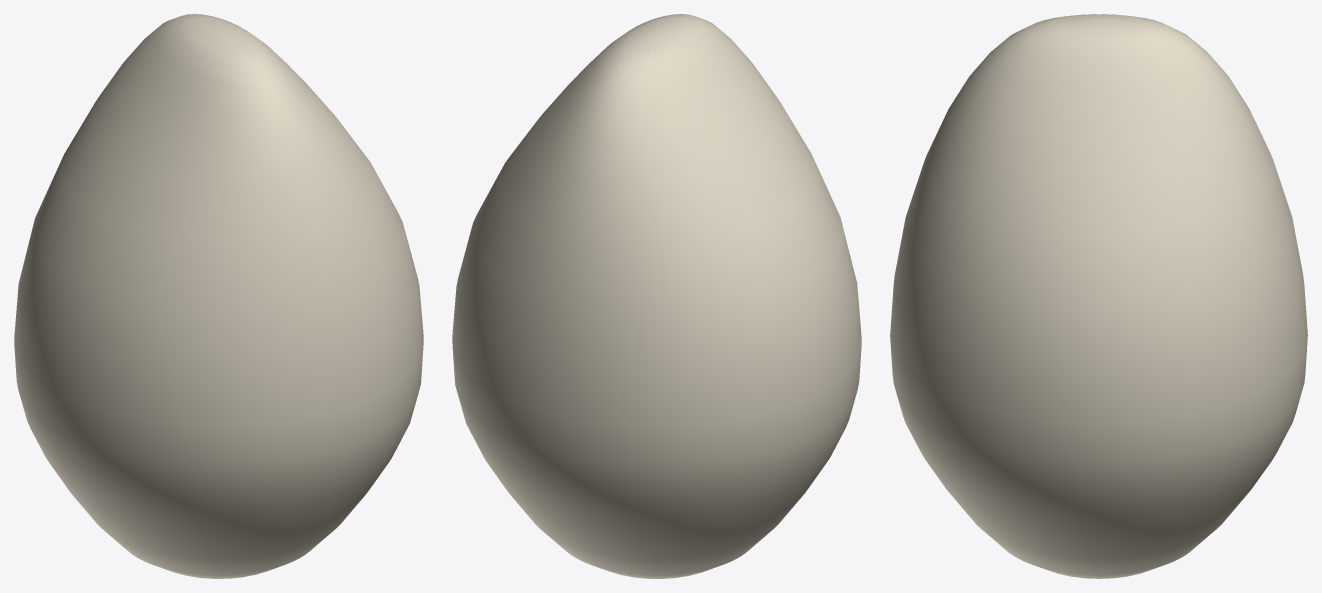
Rendered from Character.fbx.
The picture shows the model from 3 angles, left to right: view 1: azimuth 30°, elevation 25°; view 2: azimuth 150°, elevation 25°; view 3: azimuth 270°, elevation 25°; orthographic projection.
Visible parts, largest first — view 1: Body; view 2: Body; view 3: Body.
Boxes of the visible parts, x1,y1,x2,y2 form: Body: [14, 14, 423, 578]; Body: [452, 14, 861, 578]; Body: [890, 14, 1307, 578].
Size of the model in its own units: 103 by 145 by 103.
